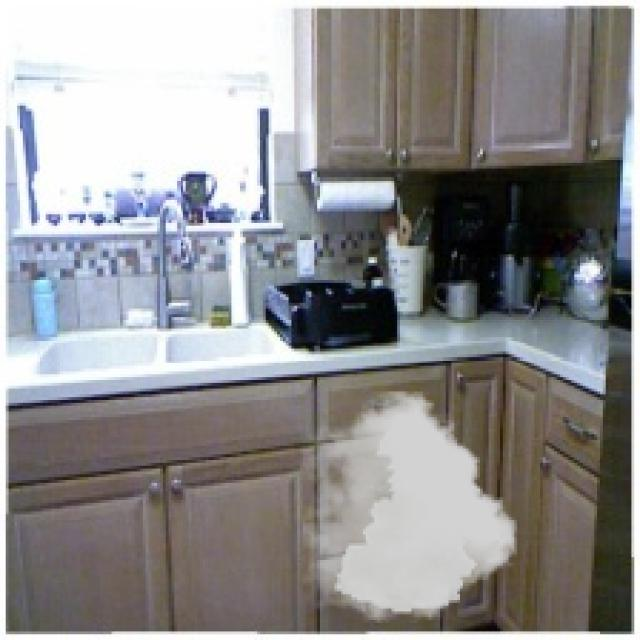smoke: (303, 391, 517, 623)
